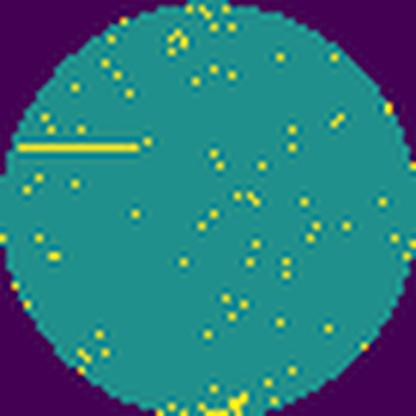Scratch: (12, 136, 148, 163)
